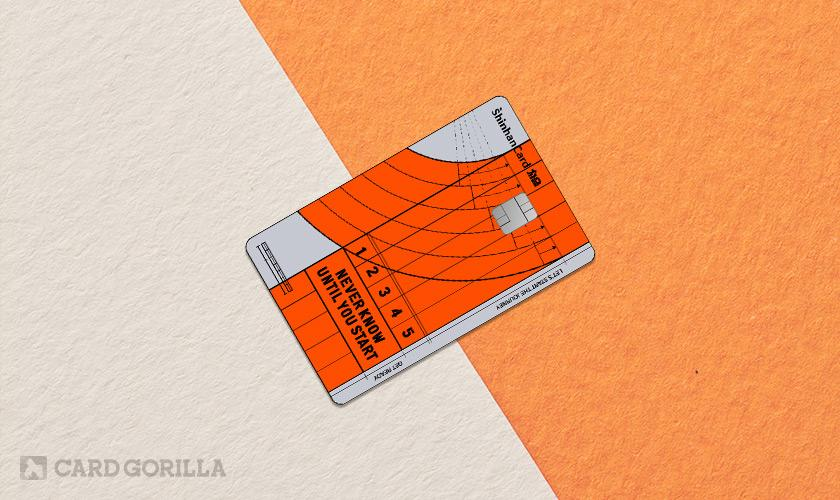Credit_card: (247, 97, 595, 403)
